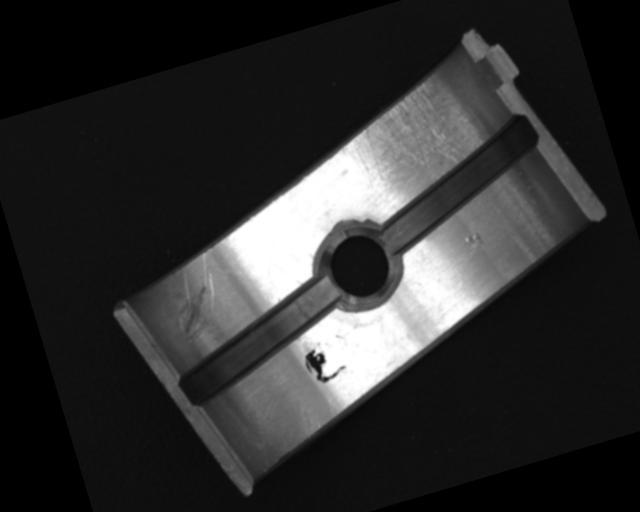blot: (299, 337, 349, 387)
bruise: (462, 230, 489, 255)
gap: (352, 109, 559, 260), (160, 276, 355, 412)
hole: (310, 218, 410, 315)
nick: (159, 250, 234, 346)
scratch: (329, 69, 497, 199)
